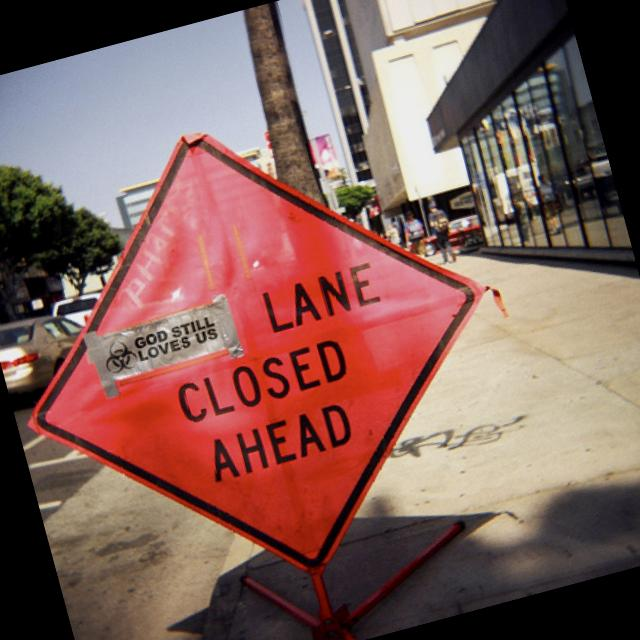Vehicle: (0, 289, 118, 396), (421, 212, 486, 256)
